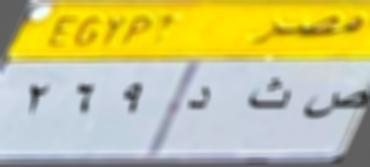2: (17, 76, 56, 123)
6: (64, 76, 102, 121)
9: (110, 78, 154, 121)
daal: (182, 80, 220, 119)
saad: (302, 84, 366, 124)
thaa: (242, 78, 298, 113)
